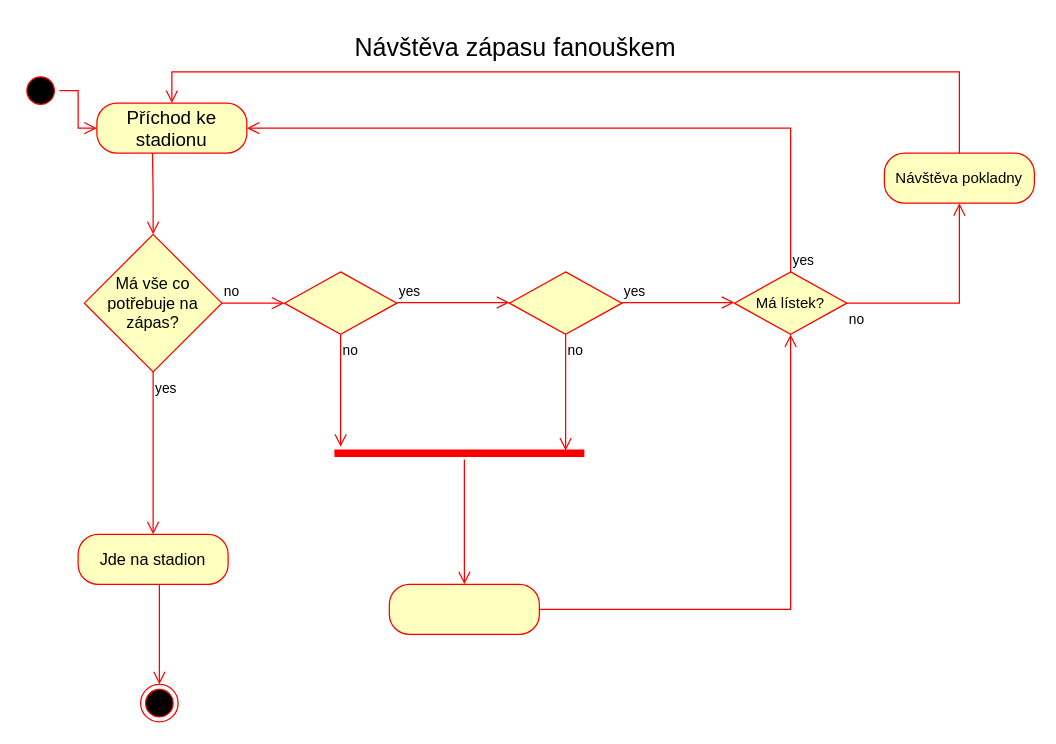
Image size: 1056x744. Some labels were removed from this diagram. The box of each missing label's shape, as (x1, y1, x2, y2) in pixels:
Má dres?: (508, 271, 622, 334)
Má šálu?: (283, 271, 397, 334)
Návštěva fanshopu: (388, 583, 539, 634)
